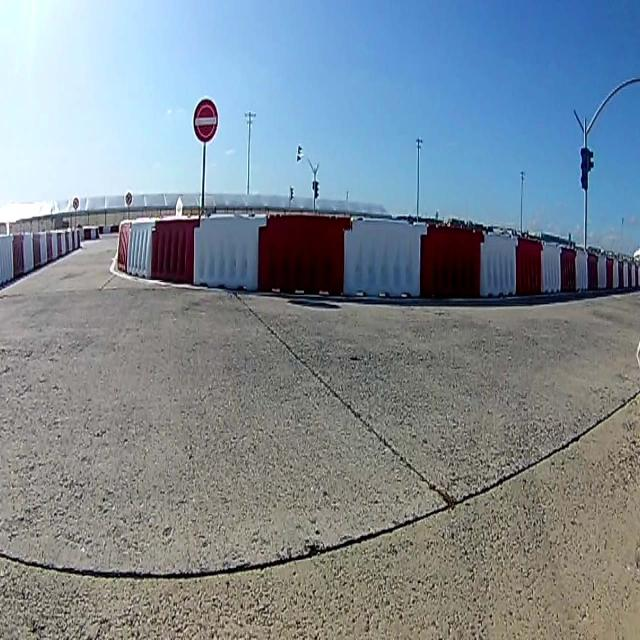girisyok: (194, 99, 217, 142)
